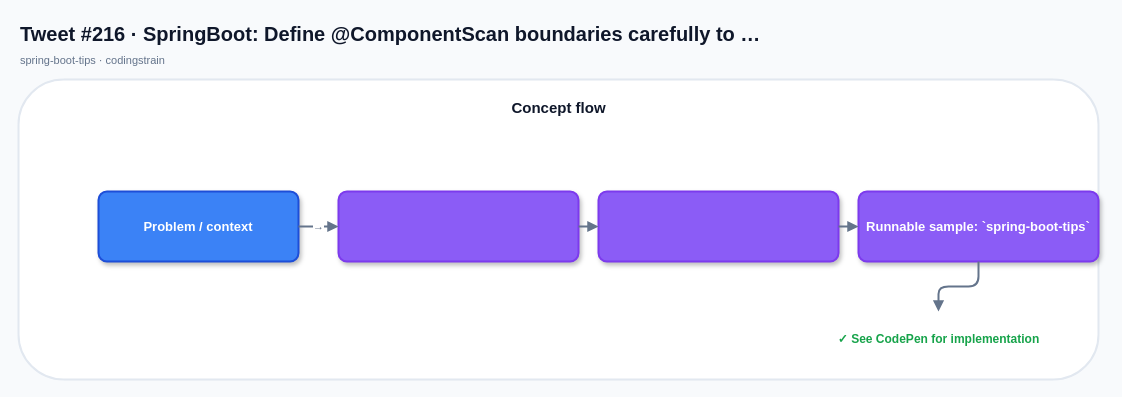
Image size: 1122x397. Some labels were removed from this diagram. The shapes that lost their labels are listed below. From the top down, each one's centre as x and y in pixels, then its label:
the point at 459,227: 💡 SpringBoot: Define @ComponentScan boundaries carefully to avoid to a
the point at 719,227: #SpringBoot #JavaDev
